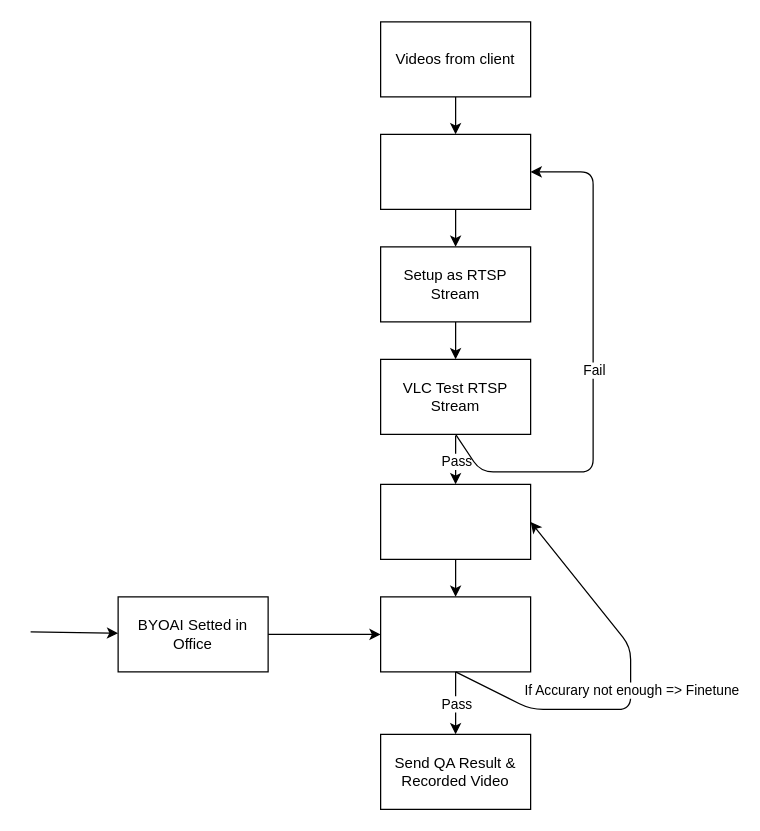
Image size: 760x831. Some labels were removed from this diagram. Here are the shapes that lost their labels. From the top down, the box of each, then its label:
(379, 133, 531, 209): Video convert re-encoding require 720p 10fps
(379, 483, 531, 559): Process in BYOAI
(379, 596, 531, 672): QA & Record Video
